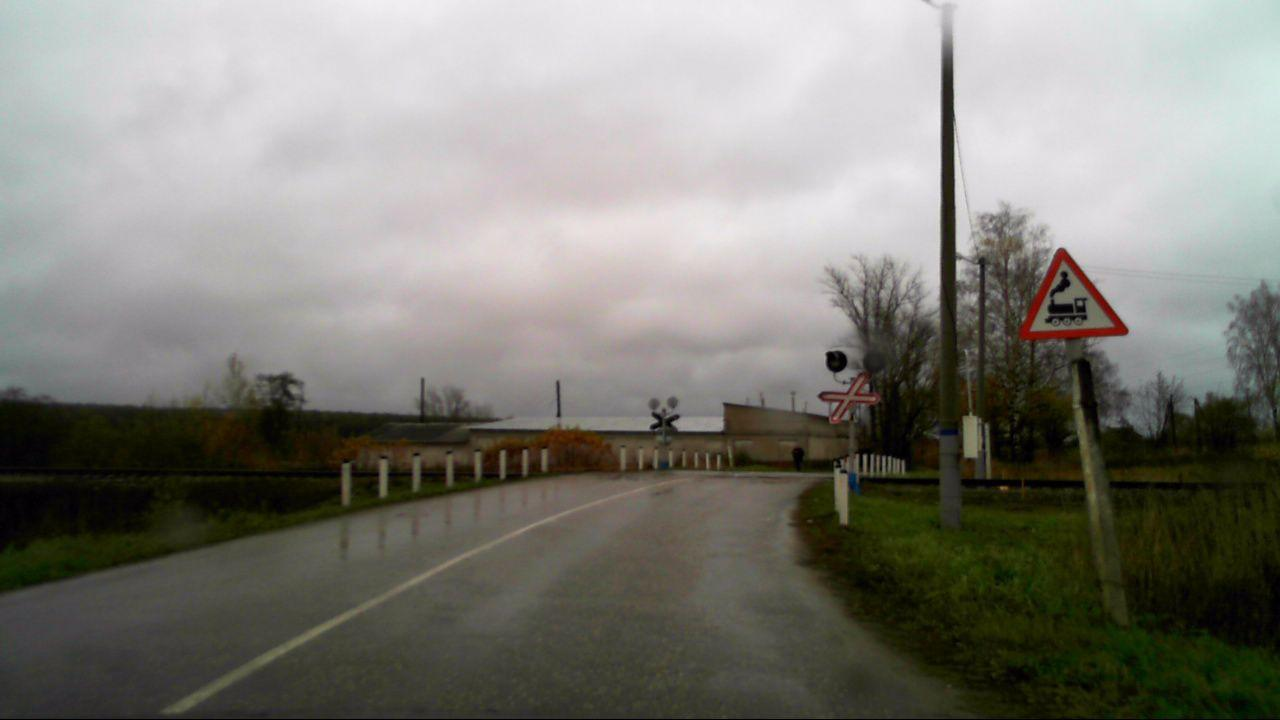1_2: (1019, 246, 1129, 341)
1_3_1: (818, 369, 883, 422)
